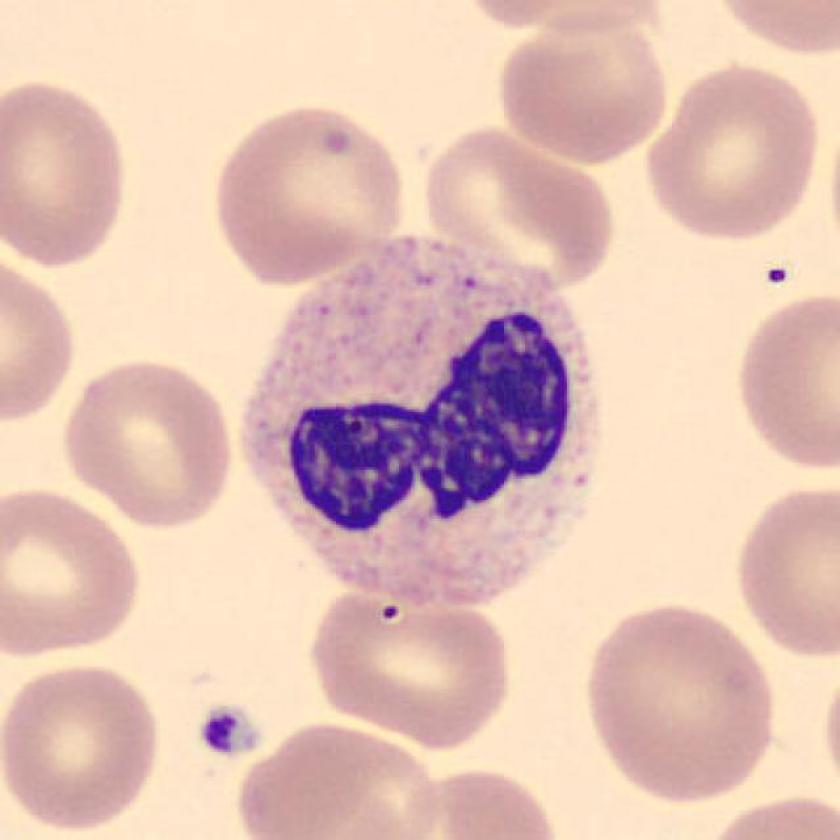neutrophil: (241, 236, 598, 606)
